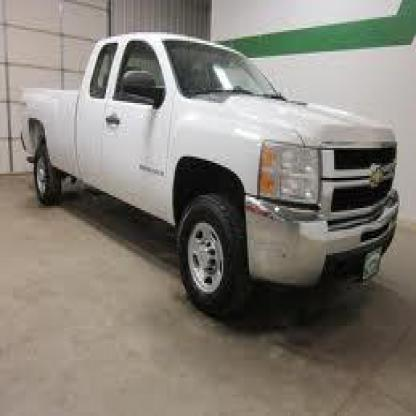Vehicle: (17, 28, 404, 319)
